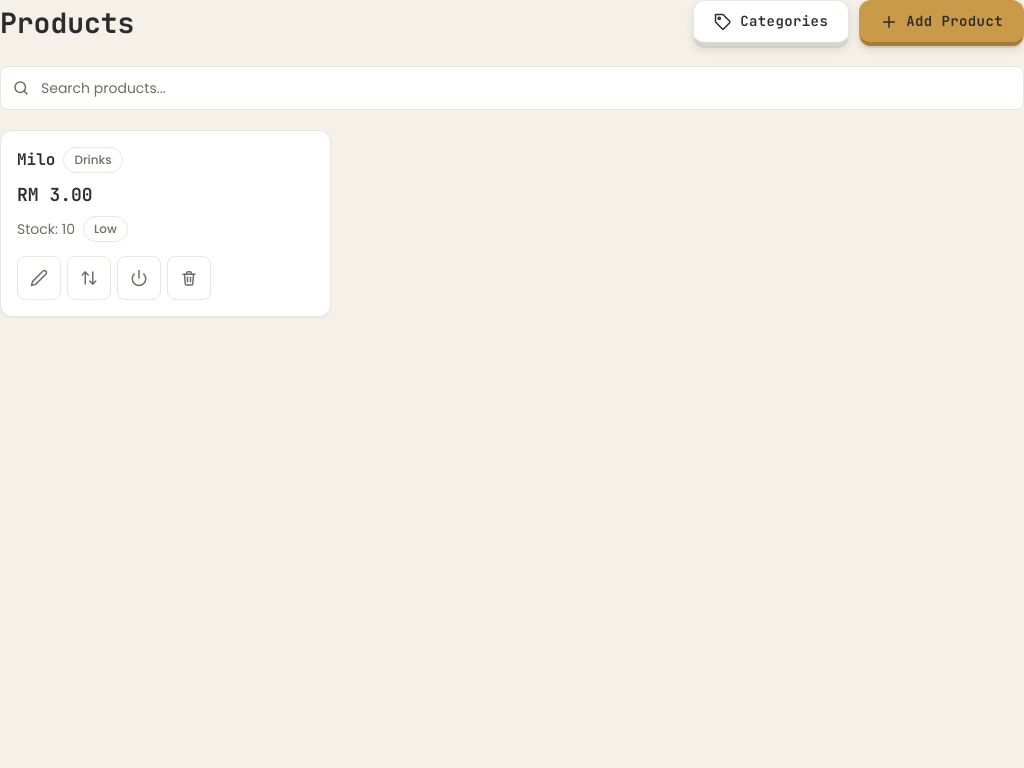
Test case: ProductsPage › records a manual_reduce movement with a positive quantity
Step 1. Click the button named "Adjust stock for Milo" → (89, 278), box 67,256 -> 111,300
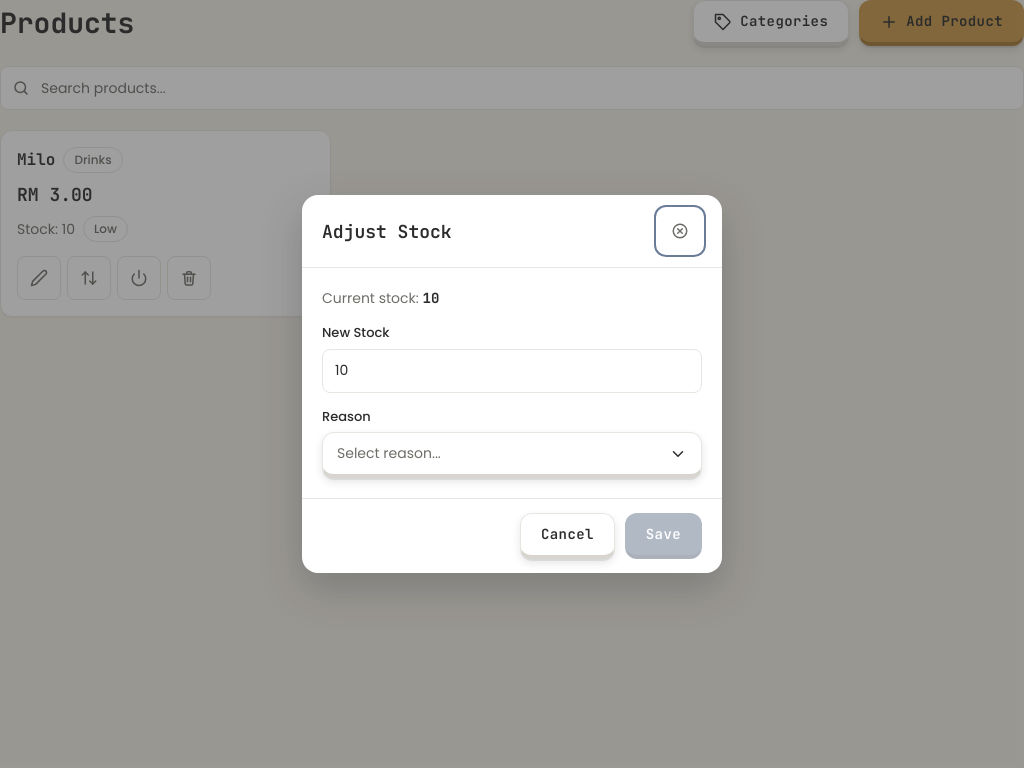
Step 2. Replace the text in the field labelled "New Stock" with "4" → (512, 370), box 322,348 -> 702,392
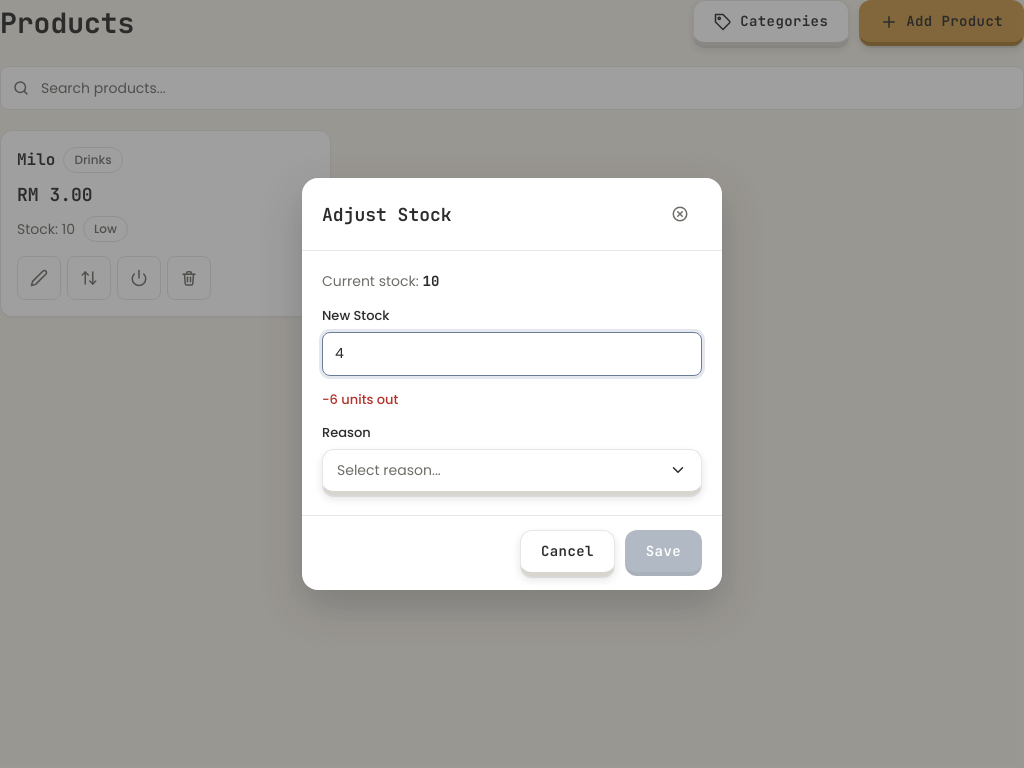
Now the text "-6 units out" is shown, box 322,390 -> 398,409
Step 3. Click the dropdown labelled "reason" → (389, 470), box 322,449 -> 702,495
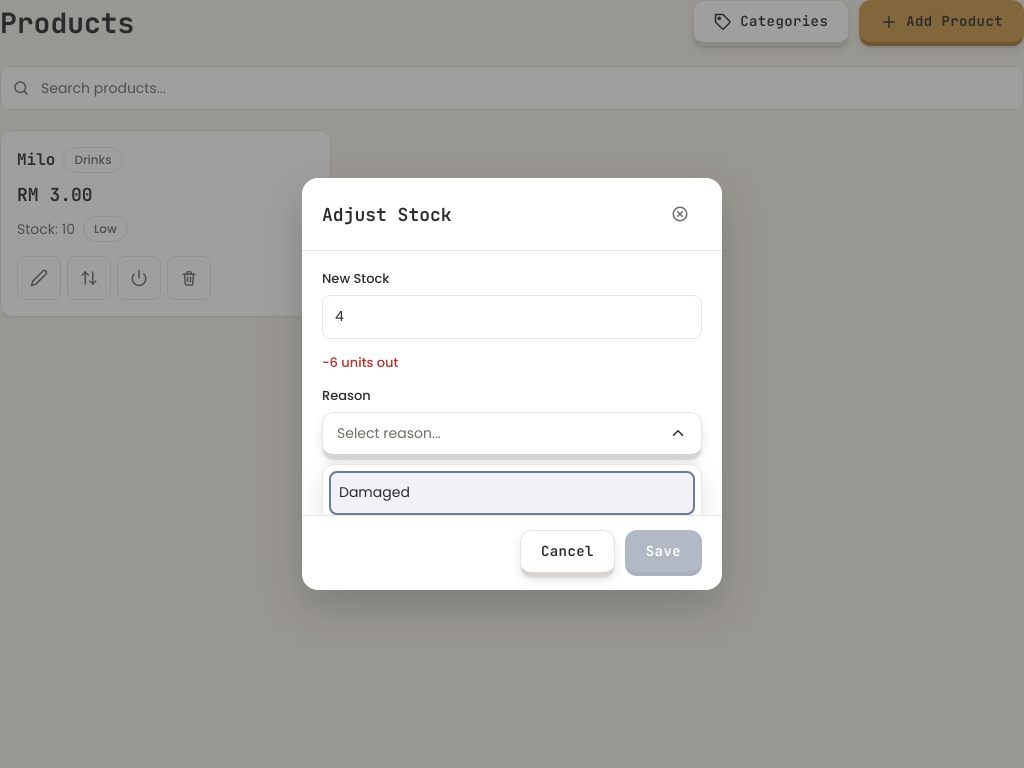
Step 4. Click the option "Damaged" → (374, 492), box 329,471 -> 695,515
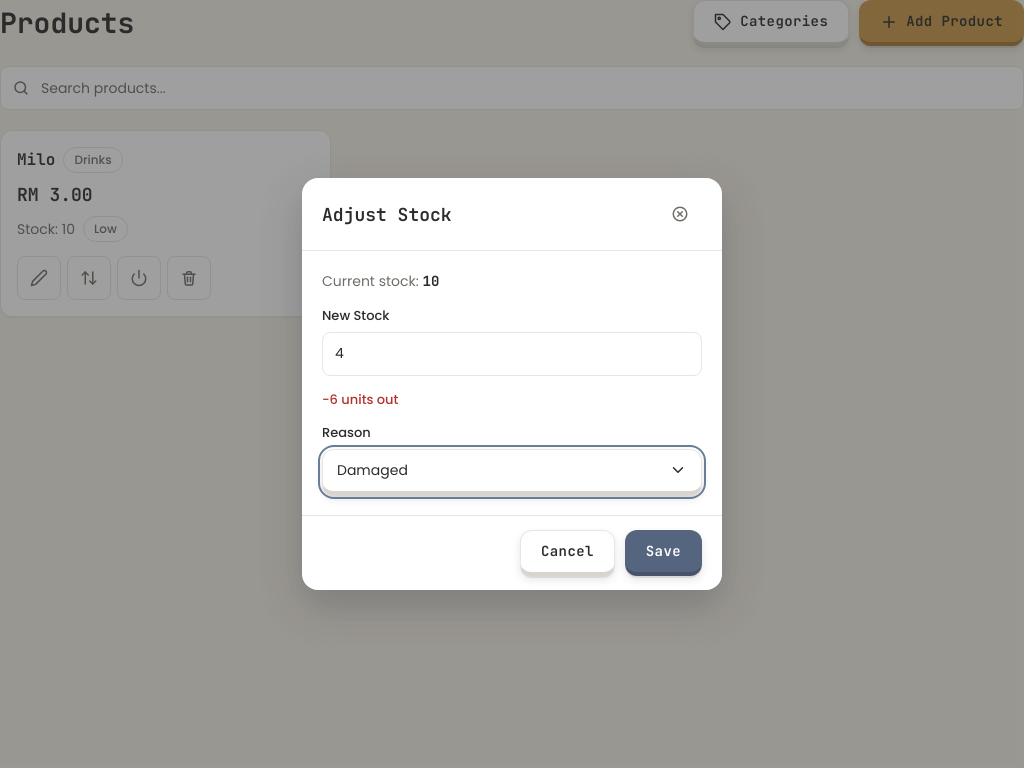
Step 5. Click the button "Save" → (663, 553), box 625,530 -> 702,576
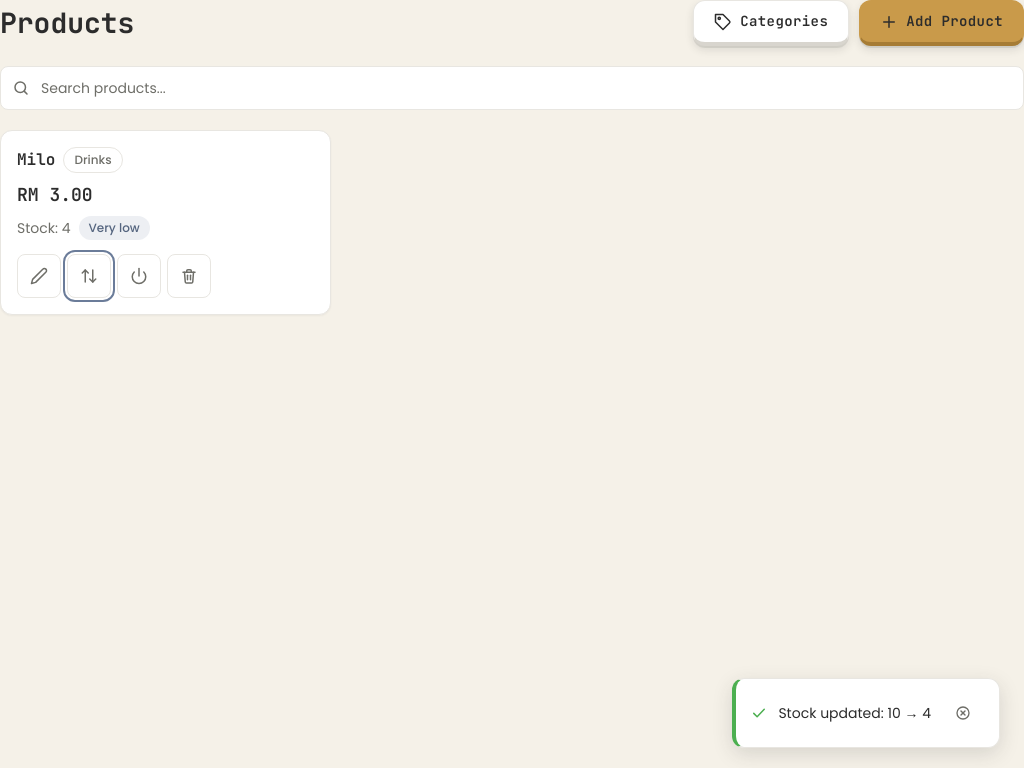
Now the text "Stock updated: 10 → 4" is shown, box 778,702 -> 931,724
